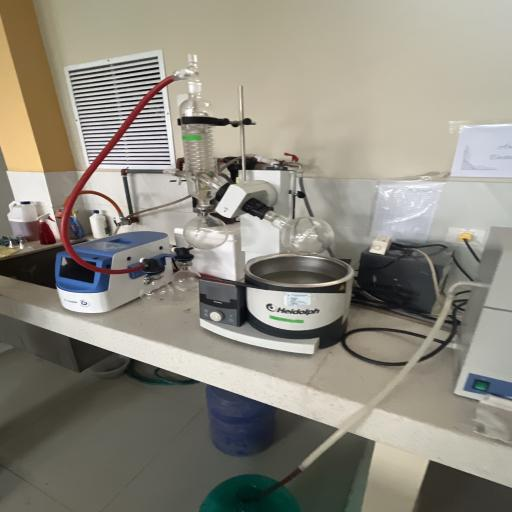Sistema_Rotaevaporacion: (44, 44, 368, 359)
